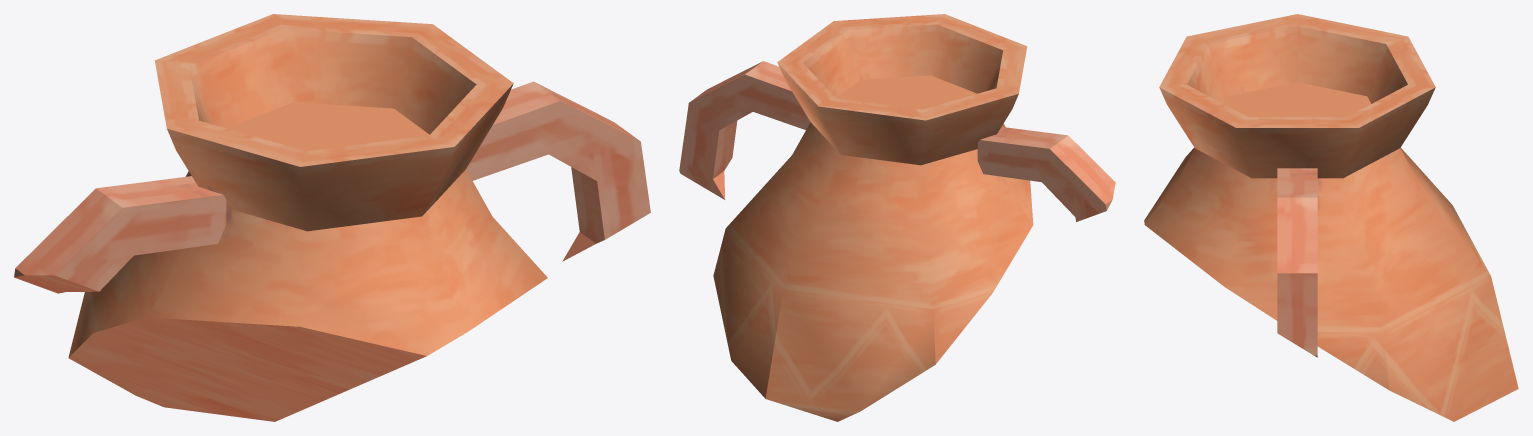
Rendered from pot_tall_s00.fbx.
3 views of the same model, side by side, from view 1: azimuth 30°, elevation 25°; view 2: azimuth 150°, elevation 25°; view 3: azimuth 270°, elevation 25° (orthographic). The views are drawn at different scales.
Visible parts, largest first — view 1: pot_tall_s00; view 2: pot_tall_s00; view 3: pot_tall_s00.
Part boxes in pixels (x1,y1,x2,y2): pot_tall_s00: (14,14,650,421); pot_tall_s00: (679,14,1115,421); pot_tall_s00: (1144,14,1518,421).
Bounding box in the file's own units: 2.67 × 1.69 × 1.85.
